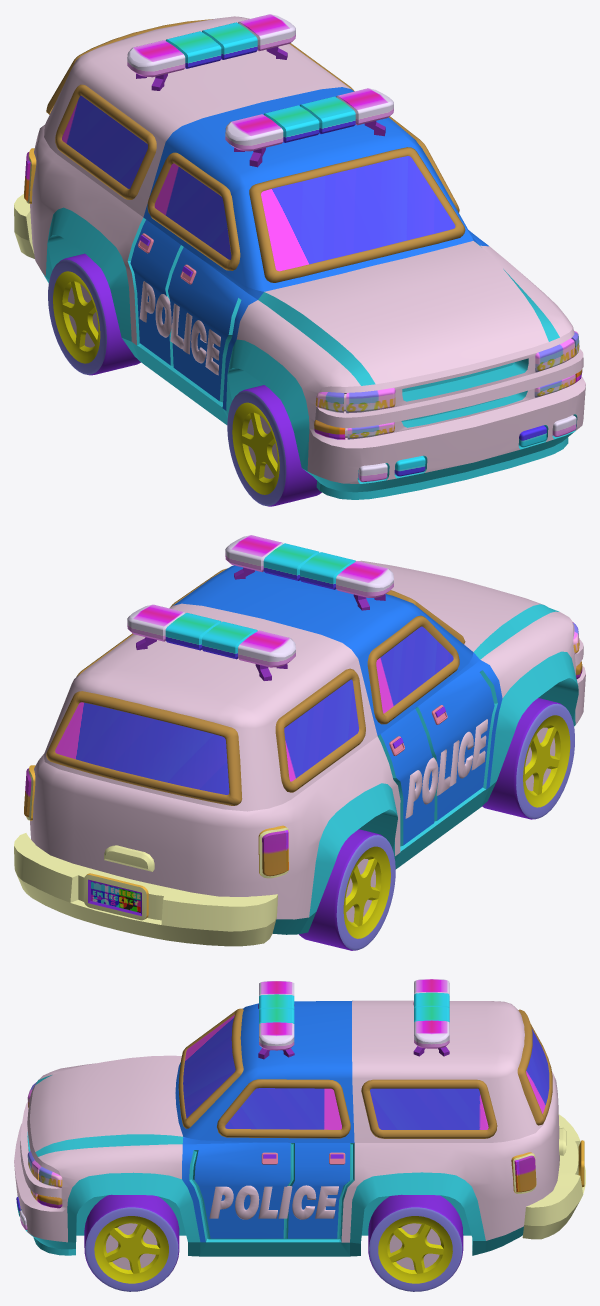
Rendered from Chevy_Suburban_police_GRP.fbx.
3 renders of one model, top to bottom at view 1: azimuth 30°, elevation 25°; view 2: azimuth 150°, elevation 25°; view 3: azimuth 270°, elevation 25°, orthographic. The views are drawn at different scales.
Parts seen in each view (by area): view 1: SuburbanPolice_mesh, SuburbanPolice_Wheel_FR_mesh, SuburbanPolice_Wheel_BR_mesh; view 2: SuburbanPolice_mesh, SuburbanPolice_Wheel_BR_mesh, SuburbanPolice_Wheel_FR_mesh; view 3: SuburbanPolice_mesh, SuburbanPolice_Wheel_BL_mesh, SuburbanPolice_Wheel_FL_mesh.
Boxes of the visible parts, x1=… form: SuburbanPolice_mesh: x1=14, y1=14, x2=585, y2=499; SuburbanPolice_Wheel_FR_mesh: x1=227, y1=385, x2=321, y2=506; SuburbanPolice_Wheel_BR_mesh: x1=48, y1=253, x2=140, y2=375; SuburbanPolice_mesh: x1=14, y1=535, x2=585, y2=946; SuburbanPolice_Wheel_BR_mesh: x1=299, y1=829, x2=395, y2=950; SuburbanPolice_Wheel_FR_mesh: x1=482, y1=698, x2=574, y2=819; SuburbanPolice_mesh: x1=14, y1=979, x2=585, y2=1256; SuburbanPolice_Wheel_BL_mesh: x1=368, y1=1194, x2=463, y2=1291; SuburbanPolice_Wheel_FL_mesh: x1=84, y1=1194, x2=179, y2=1291.
Bounding box in the file's own units: 1.51 × 1.45 × 3.26.
